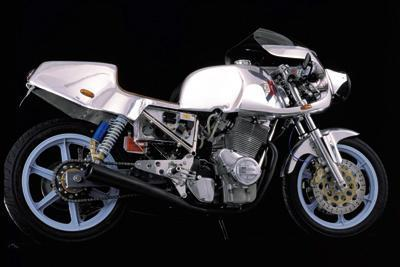motorcycle: (1, 20, 392, 250)
